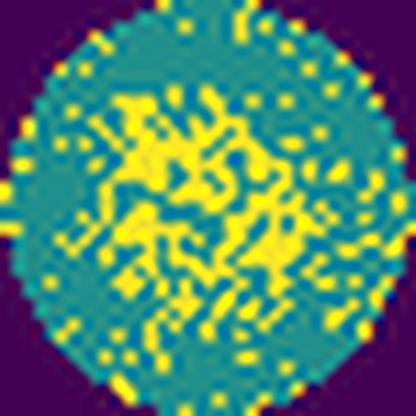Donut: (62, 80, 346, 351)
